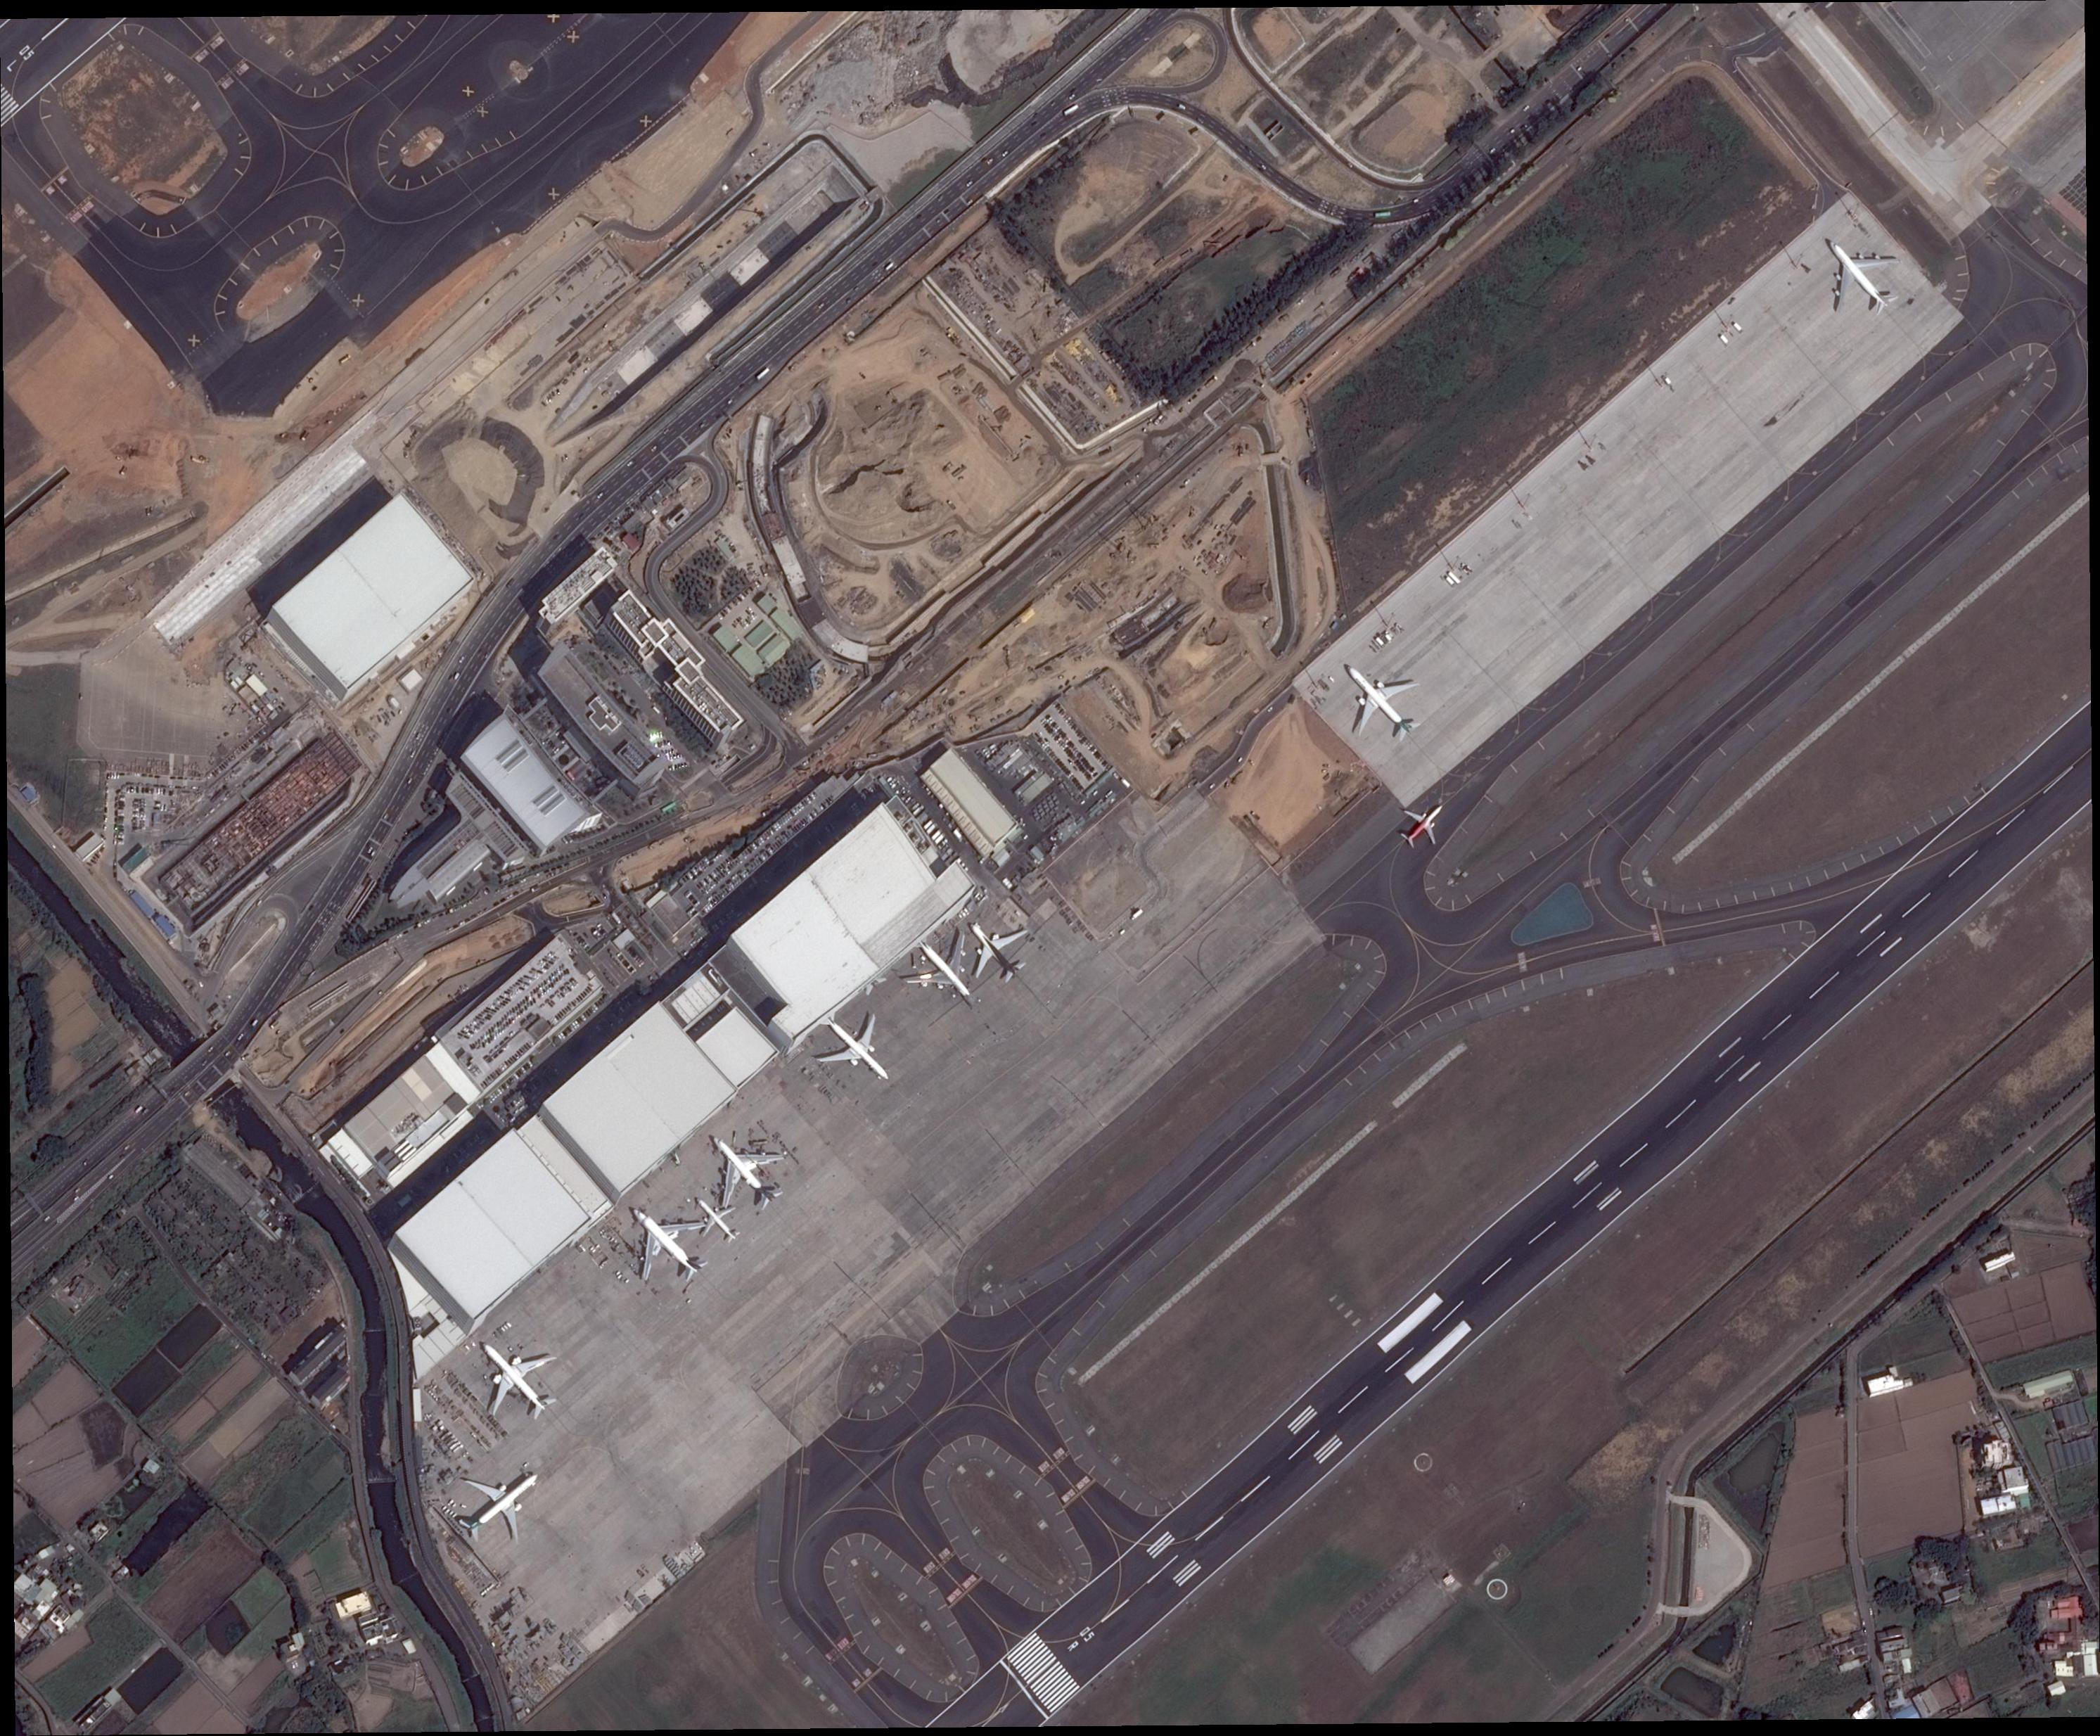plane: (436, 1438, 567, 1569), (1315, 633, 1439, 764), (452, 1314, 581, 1438), (1797, 208, 1919, 338), (602, 1181, 724, 1307), (687, 1108, 806, 1232), (799, 988, 916, 1108), (891, 916, 999, 1026), (945, 900, 1048, 1003), (684, 1185, 752, 1256), (1388, 792, 1458, 857)
